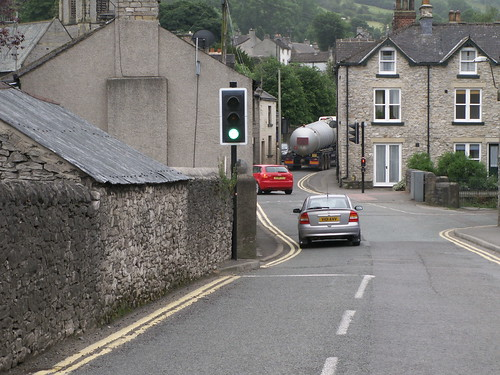building: (28, 1, 262, 180), (337, 19, 500, 186)
car: (294, 194, 366, 246), (251, 164, 299, 192)
street: (56, 179, 500, 374)
truck: (287, 117, 338, 177)
